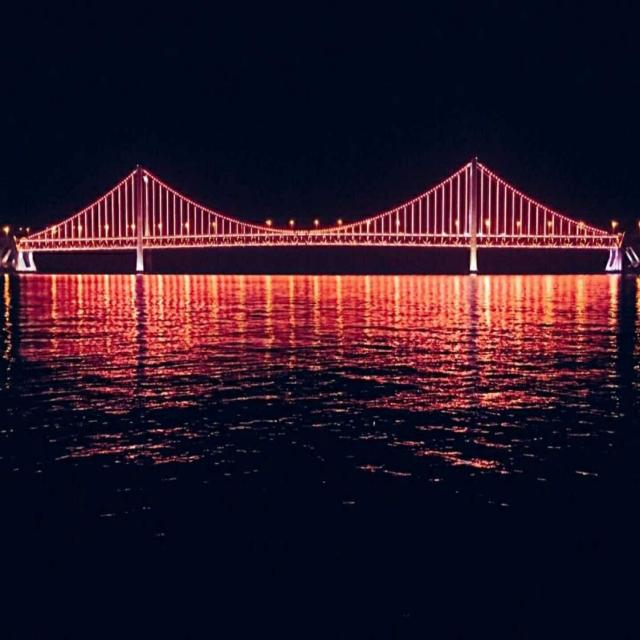other: (36, 243, 602, 365)
